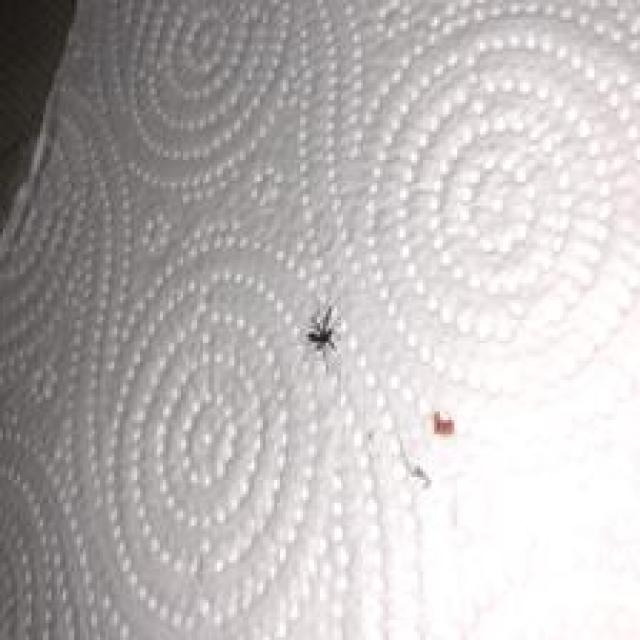Aedes albopictus: (304, 303, 339, 357)
